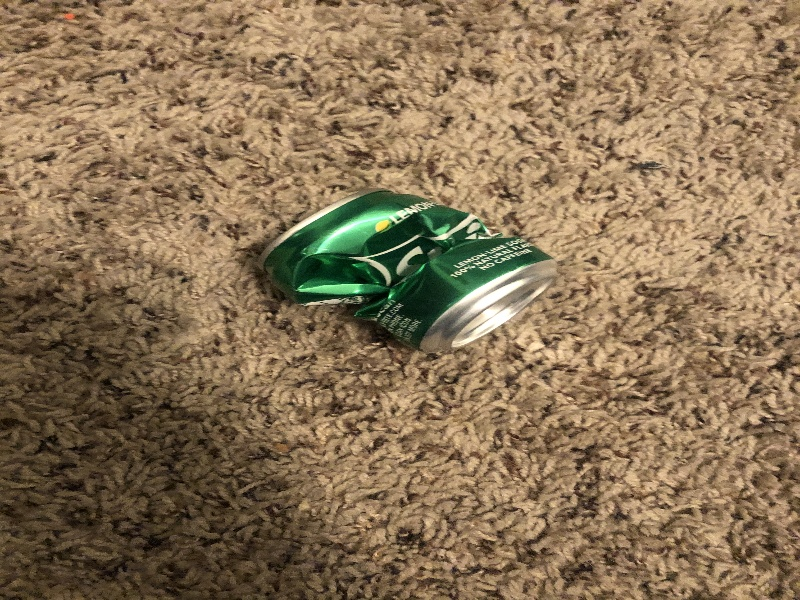metal: (252, 185, 560, 358)
